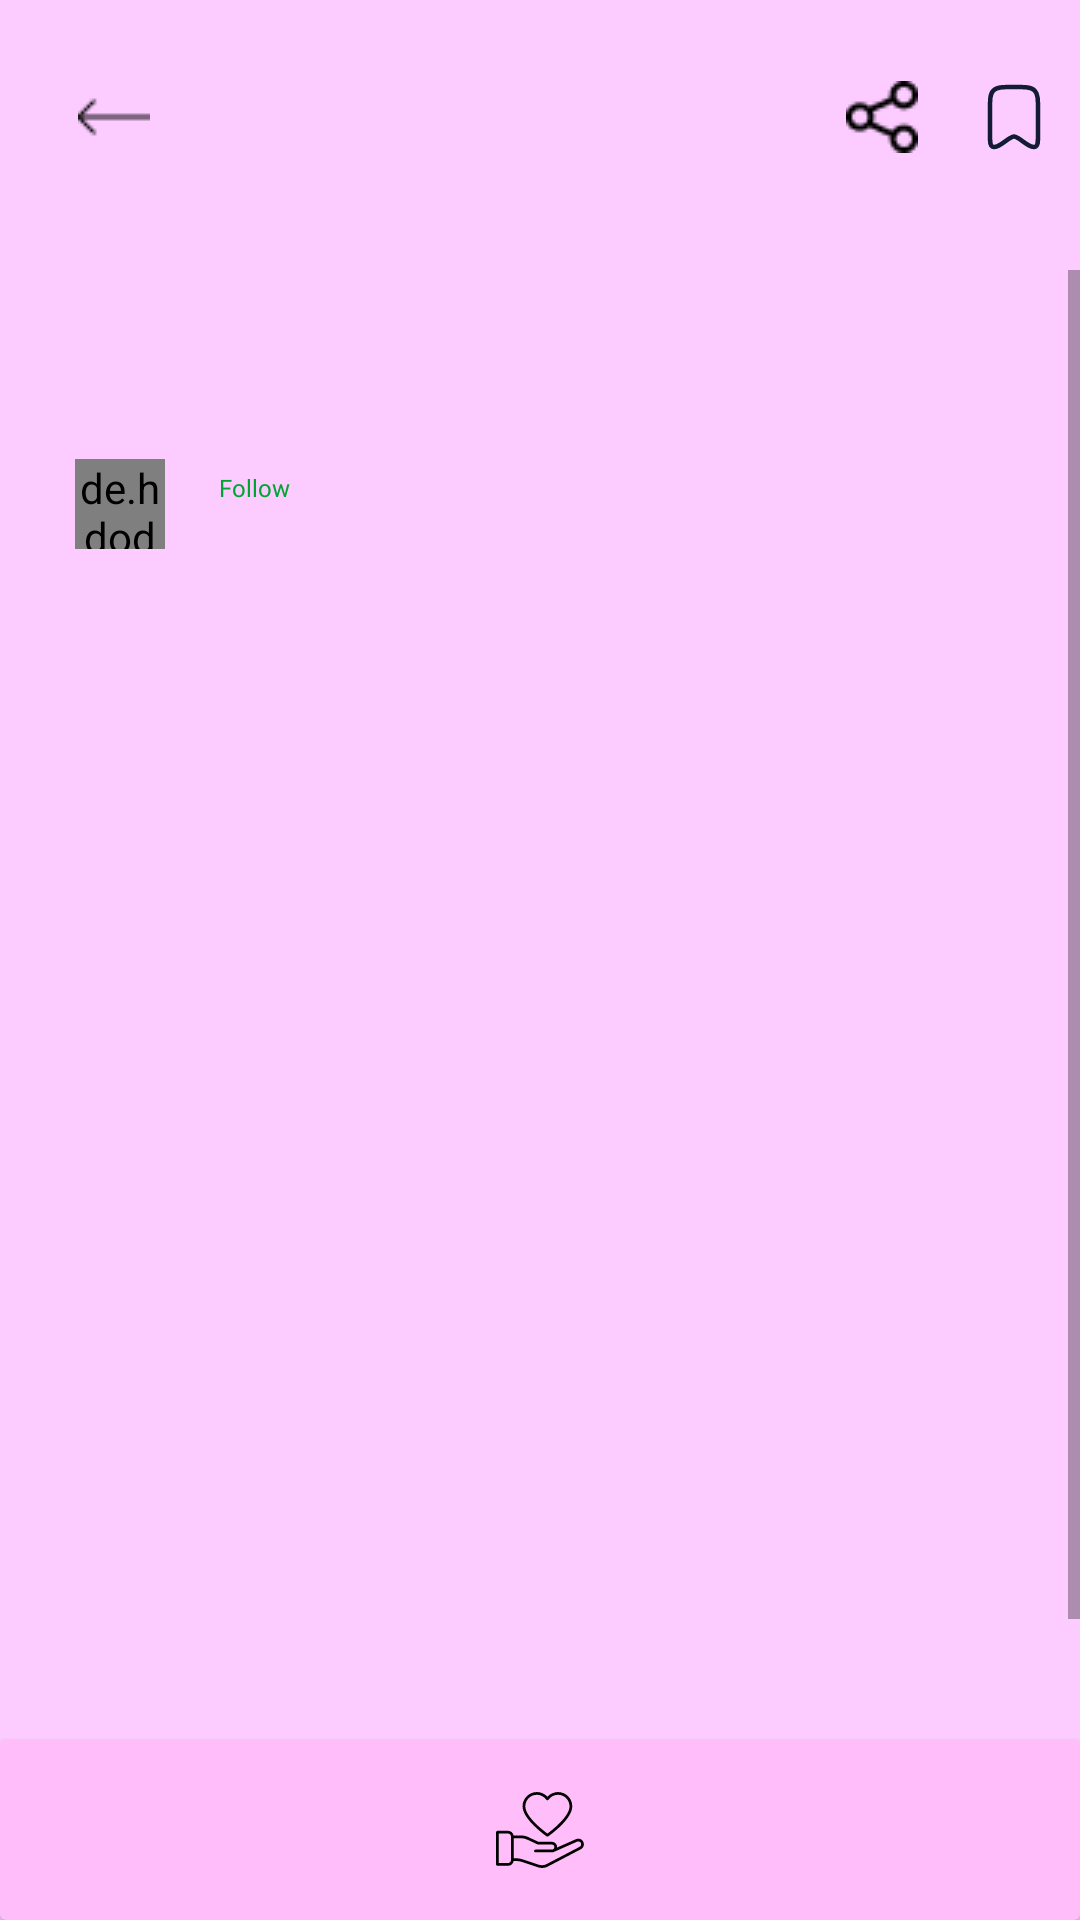

Where icons sit on this 1080*1920 app screen, as bbox=[x1, y1, x2, y2]:
back: bbox=[78, 98, 150, 136]
heart: bbox=[496, 1792, 584, 1868]
save: bbox=[987, 84, 1041, 150]
share: bbox=[846, 81, 918, 153]
